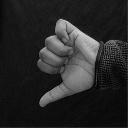hand: (36, 18, 100, 108)
